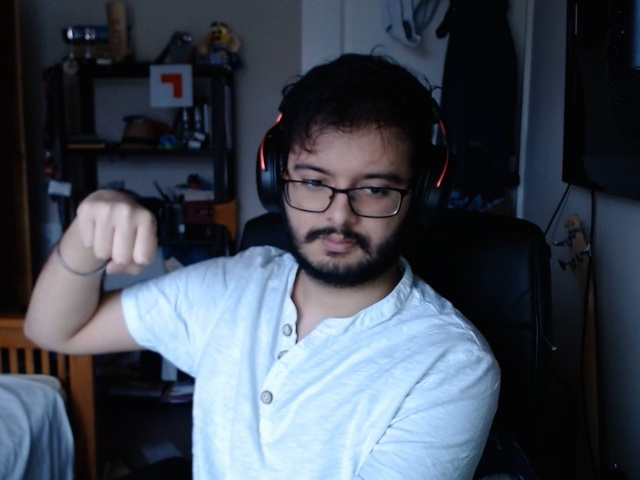Yes: (63, 181, 168, 281)
